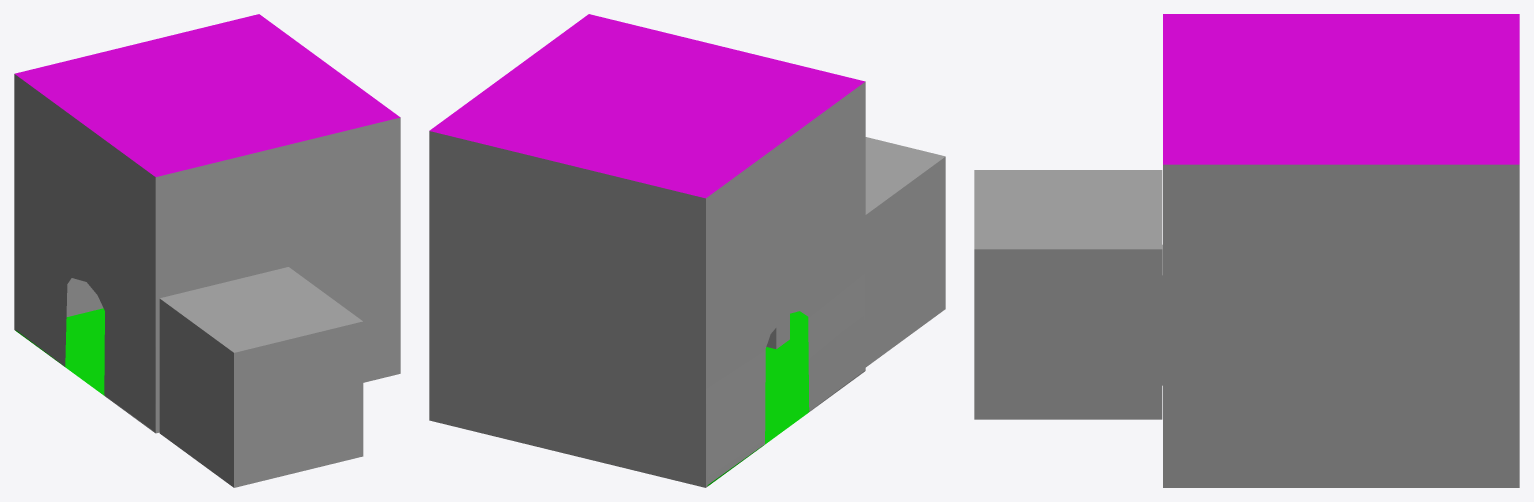
Rendered from again.fbx.
3 views of the same model, side by side, from view 1: azimuth 30°, elevation 25°; view 2: azimuth 150°, elevation 25°; view 3: azimuth 270°, elevation 25° (orthographic). The views are drawn at different scales.
Visible parts, largest first — view 1: backRoom, pCube5; view 2: backRoom, pCube5; view 3: backRoom, pCube5.
Part boxes in pixels (x1,y1,x2,y2): backRoom: (14, 14, 400, 433); pCube5: (159, 267, 363, 487); backRoom: (429, 14, 865, 487); pCube5: (777, 137, 945, 367); backRoom: (1162, 14, 1519, 487); pCube5: (974, 170, 1162, 419).
Bounding box in the file's own units: 15.55 × 15.54 × 23.69.
